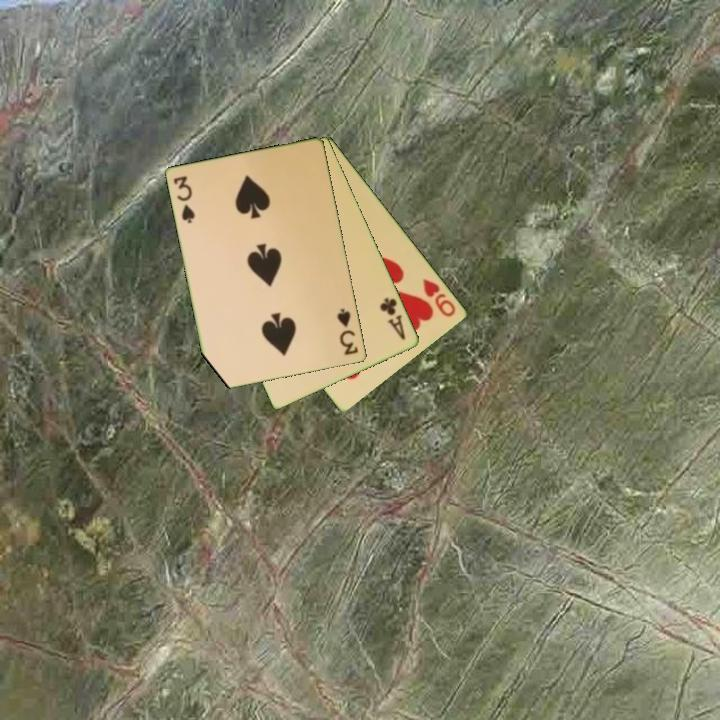3s: (170, 172, 198, 226), (334, 305, 361, 358)
9h: (420, 275, 459, 320)
Ac: (376, 294, 409, 343)
